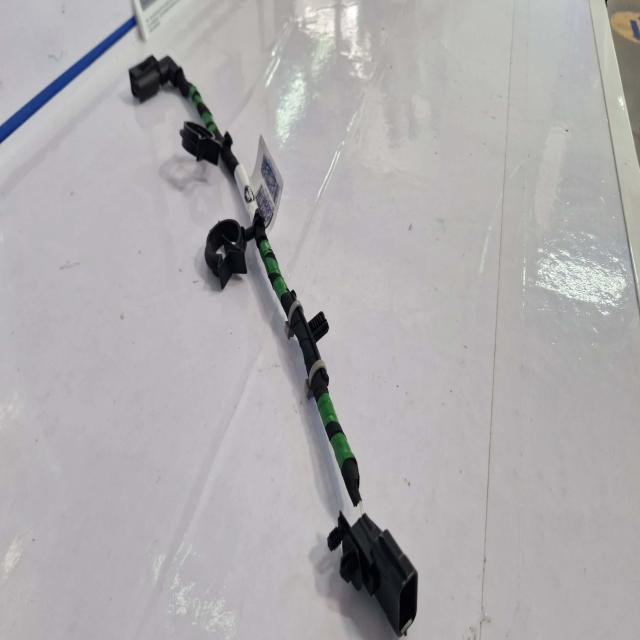AJ20_D6_Cable: (185, 81, 362, 507)
Clip: (205, 221, 255, 290), (180, 121, 220, 166)
Connector: (328, 513, 418, 636), (128, 57, 183, 102), (309, 311, 330, 342), (291, 323, 299, 336)
Info: (236, 138, 281, 236)
strap: (309, 363, 327, 387), (288, 298, 303, 325)
